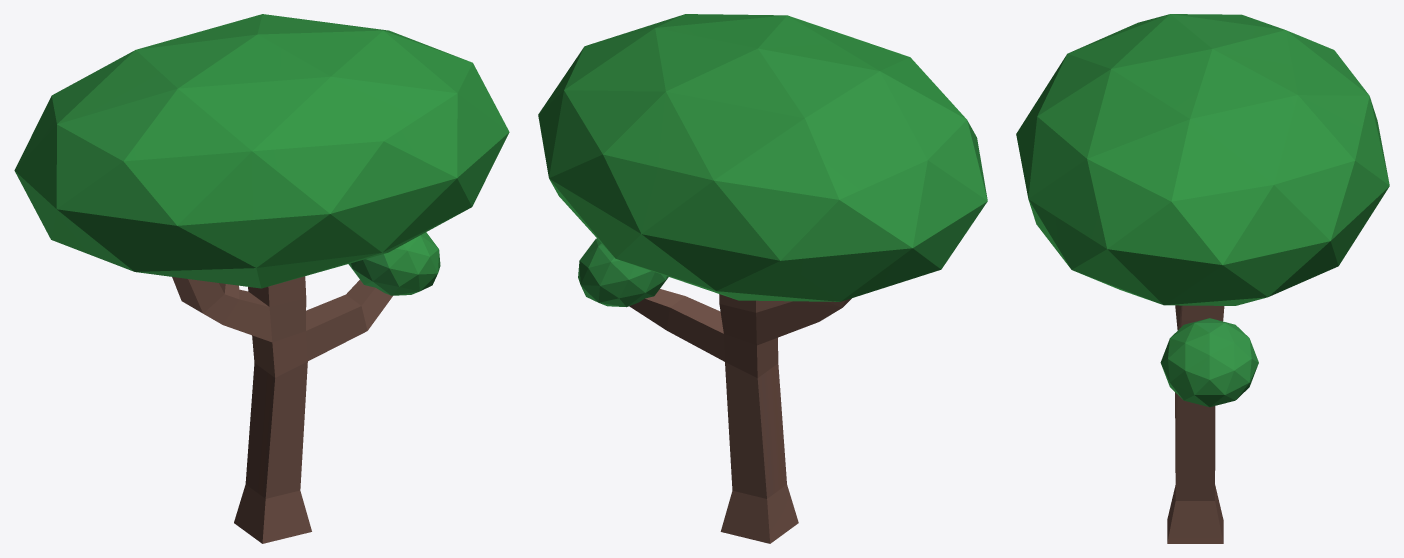
File: Tree.fbx
3 views of the same model, side by side, from view 1: azimuth 30°, elevation 25°; view 2: azimuth 150°, elevation 25°; view 3: azimuth 270°, elevation 25° (orthographic).
Parts seen in each view (by area): view 1: Tree1; view 2: Tree1; view 3: Tree1.
Boxes of the visible parts, x1,y1,x2,y2 form: Tree1: (14,14,509,543); Tree1: (538,14,987,543); Tree1: (1016,14,1389,543).
Size of the model in its own units: 433 by 469 by 331.
